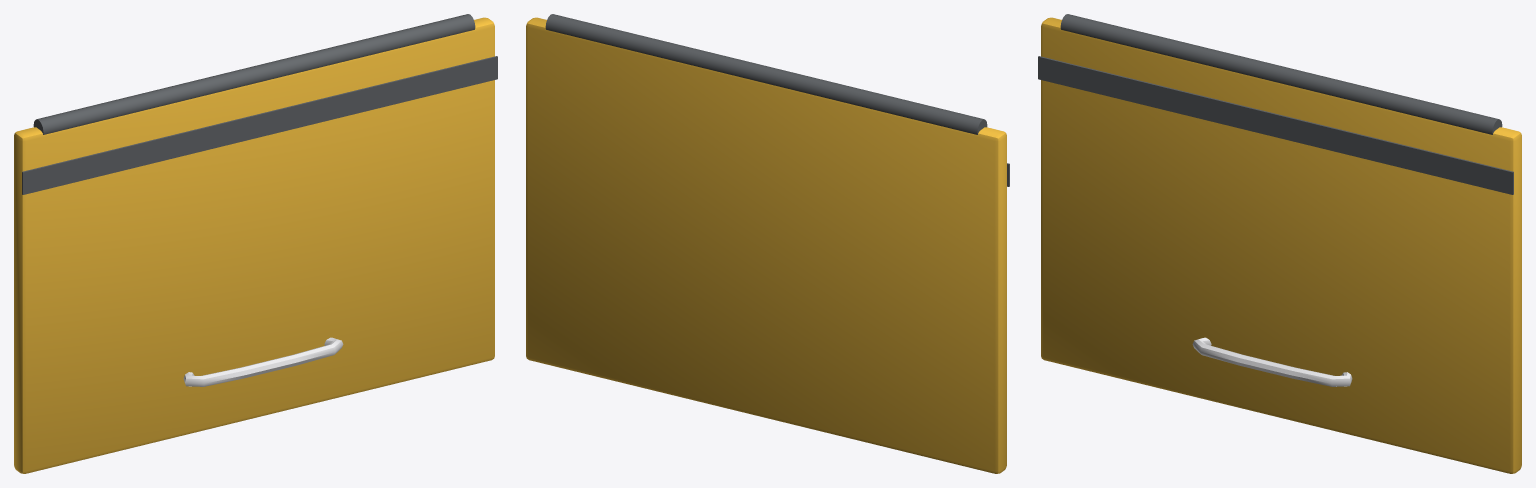
The model's file is SM_Sub_BayDoor.fbx.
3 views of the same model, side by side, from view 1: azimuth 30°, elevation 25°; view 2: azimuth 150°, elevation 25°; view 3: azimuth 330°, elevation 25° (orthographic).
Visible parts, largest first — view 1: SM_Sub_BayDoor; view 2: SM_Sub_BayDoor; view 3: SM_Sub_BayDoor.
Part boxes in pixels (box(x1,y1,x2,y2)): SM_Sub_BayDoor: box(14, 14, 497, 473); SM_Sub_BayDoor: box(526, 14, 1009, 473); SM_Sub_BayDoor: box(1038, 14, 1521, 473).
Size of the model in its own units: 1.1 by 0.77 by 0.0876.
